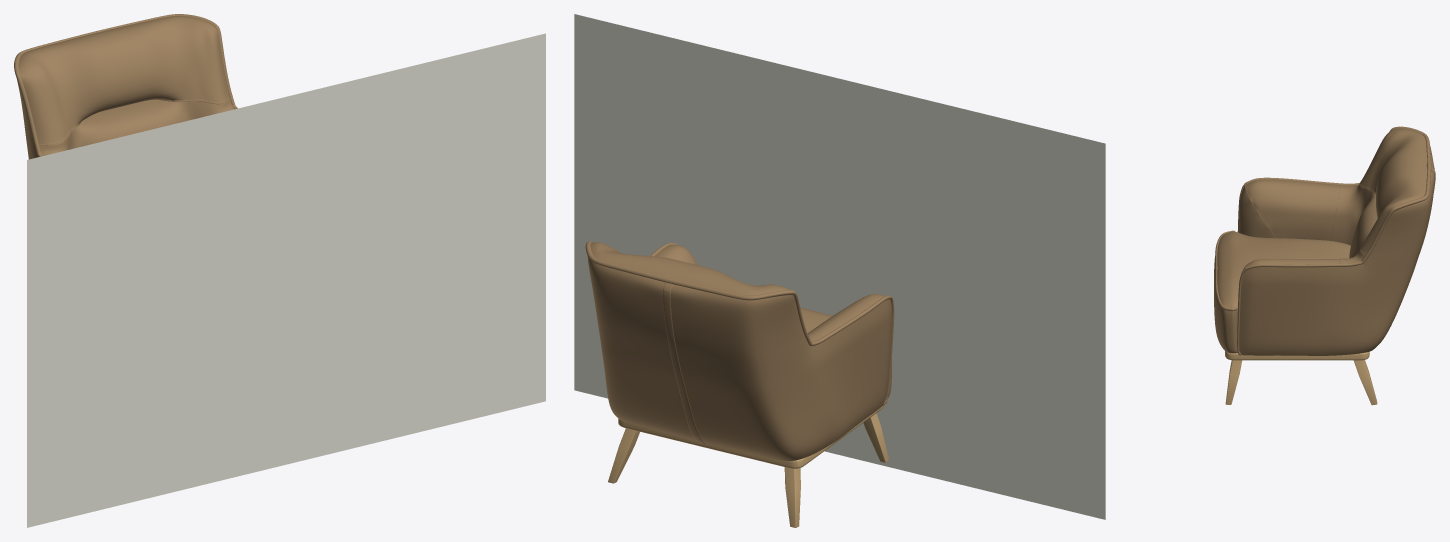
The model's file is poltrona-gaby.glb.
3 views of the same model, side by side, from view 1: azimuth 30°, elevation 25°; view 2: azimuth 150°, elevation 25°; view 3: azimuth 270°, elevation 25° (orthographic). The views are drawn at different scales.
Visible parts, largest first — view 1: Image, _Defintion2, _Defintion; view 2: Image, _Defintion2, _Defintion3, _Defintion; view 3: _Defintion2, _Defintion, _Defintion3.
Part boxes in pixels (left/top/right/bottom): Image: left=27, top=33, right=545, bottom=527; _Defintion2: left=17, top=16, right=234, bottom=159; _Defintion: left=14, top=14, right=237, bottom=156; Image: left=574, top=14, right=1105, bottom=519; _Defintion2: left=587, top=242, right=891, bottom=460; _Defintion3: left=608, top=405, right=888, bottom=527; _Defintion: left=585, top=241, right=894, bottom=405; _Defintion2: left=1214, top=128, right=1435, bottom=355; _Defintion: left=1215, top=126, right=1431, bottom=355; _Defintion3: left=1225, top=351, right=1377, bottom=405.
Bounding box in the file's own units: 1.8 × 1.22 × 1.1.
